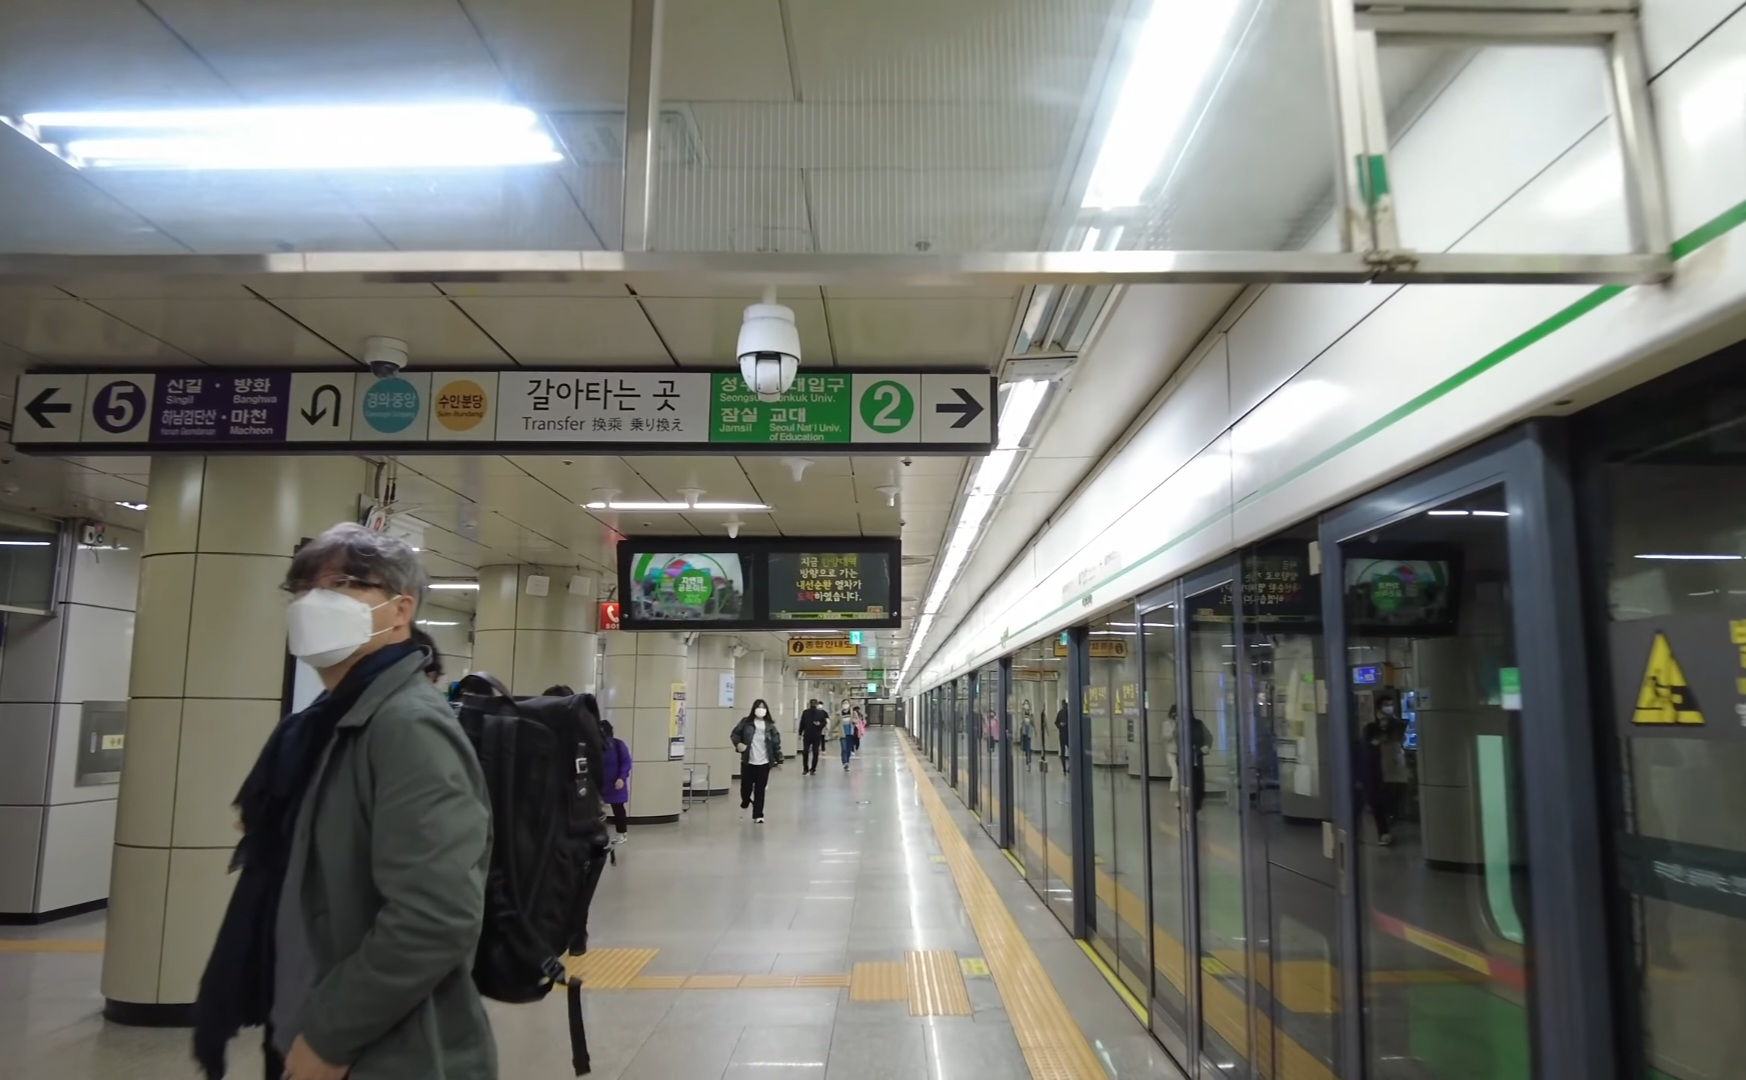signBoard: (7, 339, 1011, 461)
